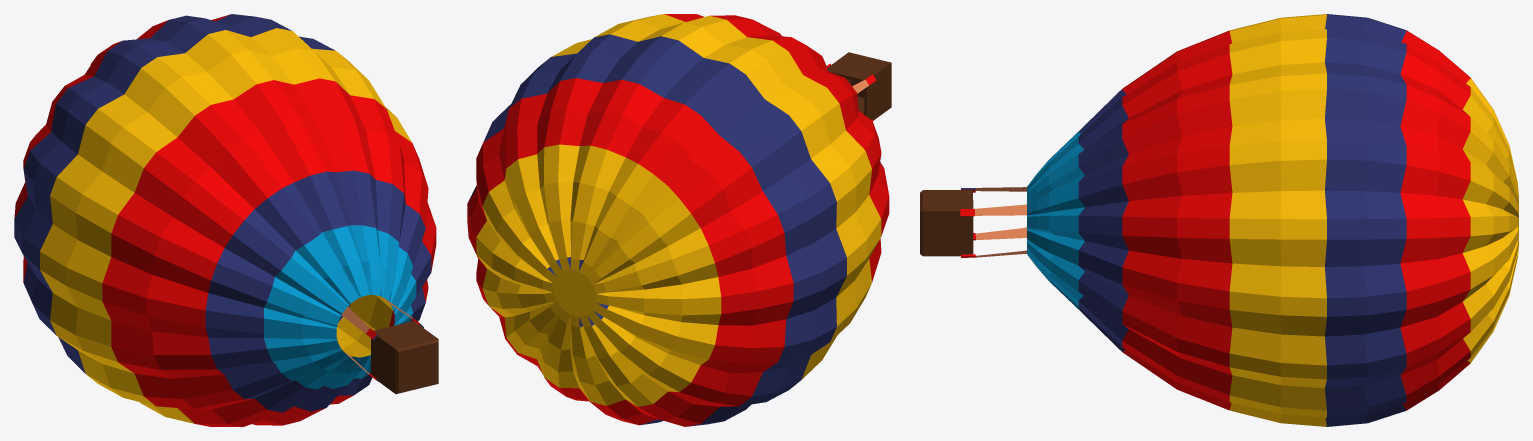
Rendered from Balloon (1).fbx.
3 views of the same model, side by side, from view 1: azimuth 30°, elevation 25°; view 2: azimuth 150°, elevation 25°; view 3: azimuth 270°, elevation 25° (orthographic).
Parts seen in each view (by area): view 1: Sphere; view 2: Sphere; view 3: Sphere.
Boxes of the visible parts, left/top/right/bottom form: Sphere: left=14, top=14, right=438, bottom=426; Sphere: left=467, top=14, right=891, bottom=426; Sphere: left=920, top=14, right=1518, bottom=426.
Size of the model in its own units: 6460 by 6460 by 9378.
